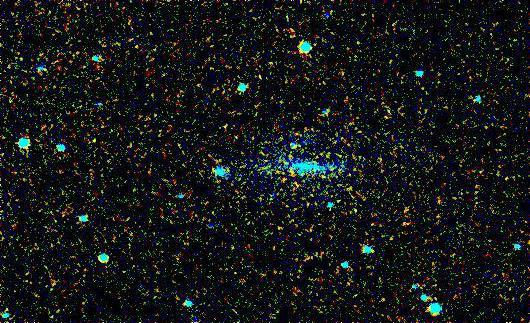star: (366, 285, 396, 315)
